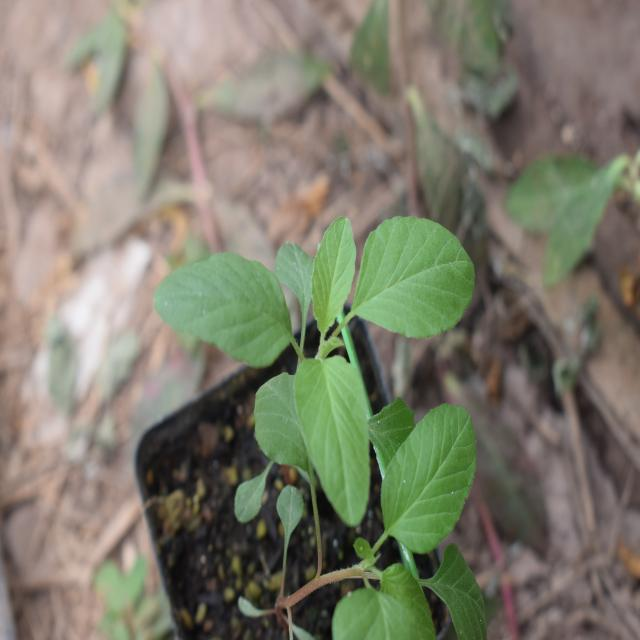pigweed: (185, 181, 490, 537)
